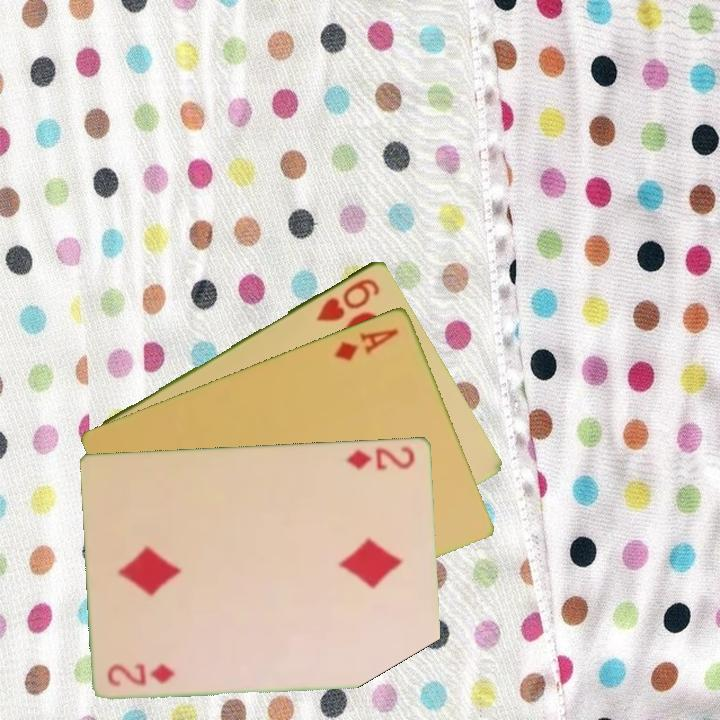2d: (343, 442, 418, 473), (104, 660, 178, 689)
6h: (312, 274, 383, 324)
Ad: (331, 324, 402, 364)
